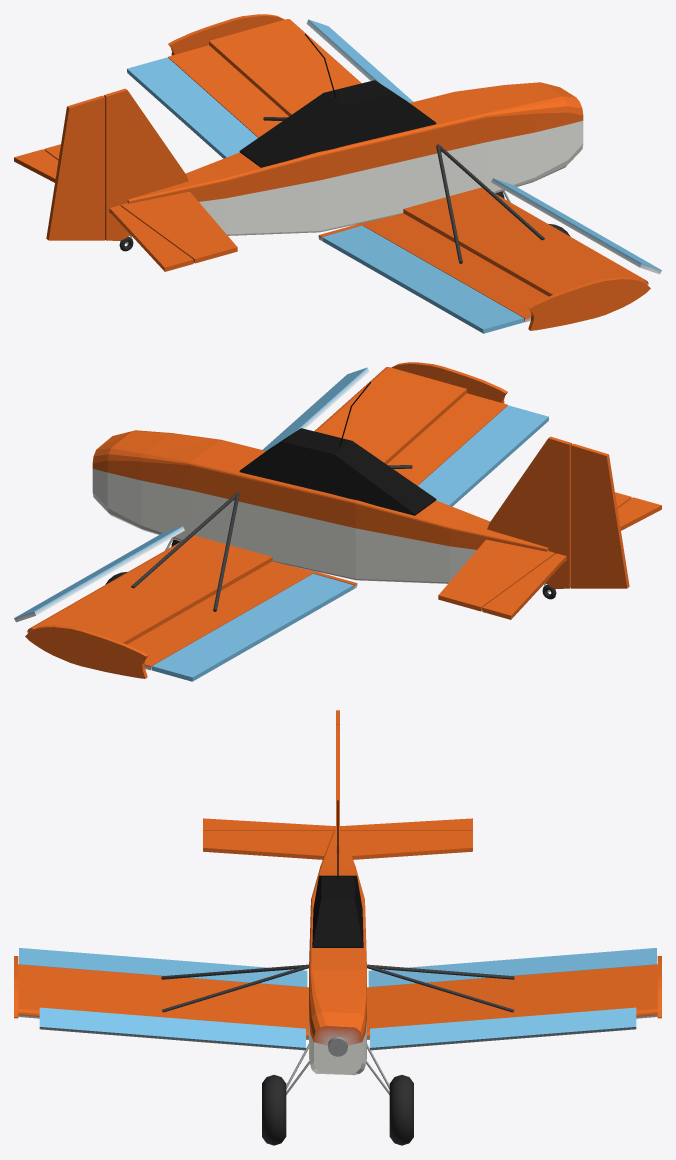
The model's file is buschtrottel-agro.glb.
3 views of the same model, one above another, from view 1: azimuth 30°, elevation 25°; view 2: azimuth 150°, elevation 25°; view 3: azimuth 270°, elevation 25° (orthographic). The views are drawn at different scales.
Parts seen in each view (by area): view 1: Buschtrottel, group7, group15, tail, canopy, rudder, aileron_R, aileron_L, elevator, wing_R; view 2: Buschtrottel, group15, group7, tail, canopy, rudder, aileron_L, aileron_R, elevator, wing_L; view 3: group7, group15, Buschtrottel, tail, aileron_R, aileron_L, canopy, elevator, wheel_L, wheel_R, wing_R, wing_L.
Part boxes in pixels (x1=…): Buschtrottel: x1=127, y1=82, x2=583, y2=235; group7: x1=318, y1=178, x2=661, y2=330; group15: x1=168, y1=14, x2=413, y2=137; tail: x1=44, y1=88, x2=237, y2=263; canopy: x1=239, y1=34, x2=436, y2=167; rudder: x1=46, y1=95, x2=104, y2=240; aileron_R: x1=322, y1=226, x2=523, y2=333; aileron_L: x1=127, y1=57, x2=257, y2=158; elevator: x1=14, y1=149, x2=193, y2=271; wing_R: x1=436, y1=144, x2=544, y2=263; Buschtrottel: x1=92, y1=430, x2=548, y2=583; group15: x1=14, y1=526, x2=357, y2=678; group7: x1=262, y1=362, x2=507, y2=485; tail: x1=438, y1=436, x2=631, y2=611; canopy: x1=239, y1=382, x2=436, y2=515; rudder: x1=571, y1=443, x2=629, y2=588; aileron_L: x1=152, y1=574, x2=353, y2=681; aileron_R: x1=418, y1=405, x2=548, y2=506; elevator: x1=482, y1=497, x2=661, y2=619; wing_L: x1=131, y1=492, x2=239, y2=611; group7: x1=14, y1=956, x2=308, y2=1050; group15: x1=367, y1=956, x2=661, y2=1050; Buschtrottel: x1=309, y1=830, x2=366, y2=1075; tail: x1=203, y1=724, x2=472, y2=859; aileron_R: x1=19, y1=948, x2=307, y2=987; aileron_L: x1=368, y1=948, x2=656, y2=987; canopy: x1=312, y1=800, x2=363, y2=947; elevator: x1=203, y1=818, x2=472, y2=830; wheel_L: x1=389, y1=1075, x2=413, y2=1145; wheel_R: x1=262, y1=1075, x2=286, y2=1145; wing_R: x1=161, y1=964, x2=308, y2=1012; wing_L: x1=367, y1=964, x2=514, y2=1012.
Size of the model in its own units: 0.768 by 0.3964 by 0.912.
